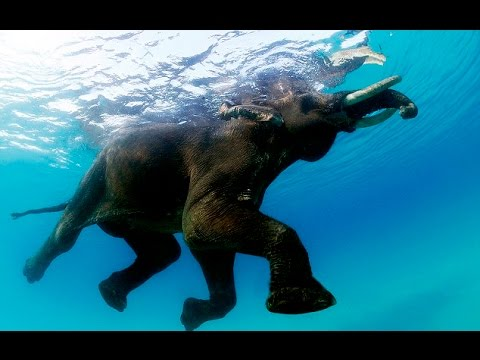elephant: (13, 69, 419, 312)
